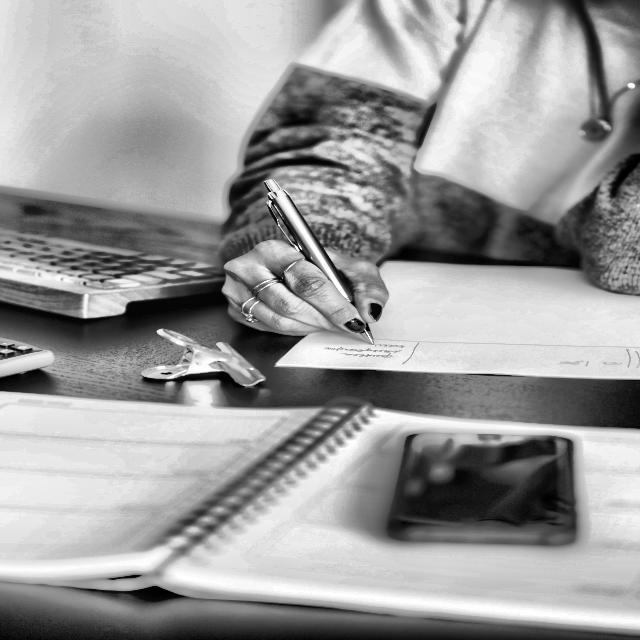Notebook: (1, 390, 640, 640), (274, 258, 640, 386)
Pen: (258, 176, 388, 349)
